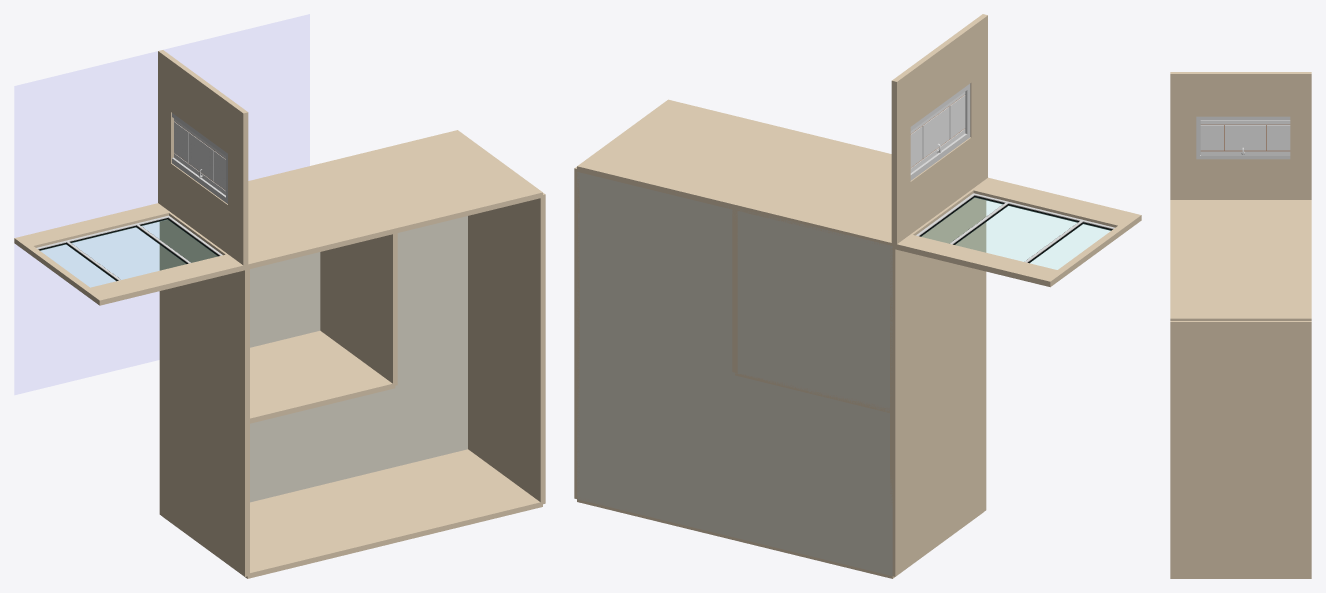
The picture shows the model from 3 angles, left to right: view 1: azimuth 30°, elevation 25°; view 2: azimuth 150°, elevation 25°; view 3: azimuth 270°, elevation 25°; orthographic projection. The views are drawn at different scales.
Visible parts, largest first — view 1: wall (×10), floor (×4), SIP (×2), Glass, WindowFrame, Door_3, DoorFrame, WindowSeal; view 2: floor (×4), wall (×7), SIP (×2), Glass, WindowFrame, DoorFrame, Door_3, WindowSeal; view 3: wall (×4), SIP, Door_3, DoorFrame, Door_4, Door_5, Door_1, Door_2, Door.
Boxes of the visible parts, x1=… form: wall (×10): x1=159, y1=130, x2=545, y2=578; floor (×4): x1=250, y1=216, x2=467, y2=502; SIP (×2): x1=14, y1=50, x2=248, y2=305; Glass: x1=40, y1=219, x2=216, y2=286; WindowFrame: x1=36, y1=215, x2=222, y2=280; Door_3: x1=188, y1=132, x2=213, y2=181; DoorFrame: x1=172, y1=113, x2=227, y2=203; WindowSeal: x1=38, y1=218, x2=219, y2=281; floor (×4): x1=577, y1=172, x2=892, y2=575; wall (×7): x1=574, y1=99, x2=986, y2=576; SIP (×2): x1=891, y1=14, x2=1141, y2=287; Glass: x1=921, y1=197, x2=1110, y2=269; WindowFrame: x1=916, y1=193, x2=1114, y2=262; DoorFrame: x1=910, y1=83, x2=970, y2=180; Door_3: x1=922, y1=106, x2=949, y2=158; WindowSeal: x1=919, y1=195, x2=1112, y2=263; wall (×4): x1=1170, y1=200, x2=1311, y2=577; SIP: x1=1170, y1=72, x2=1311, y2=199; Door_3: x1=1224, y1=125, x2=1265, y2=150; DoorFrame: x1=1196, y1=116, x2=1290, y2=159; Door_4: x1=1266, y1=125, x2=1290, y2=150; Door_5: x1=1200, y1=125, x2=1223, y2=150; Door_1: x1=1200, y1=120, x2=1290, y2=124; Door_2: x1=1200, y1=151, x2=1290, y2=155; Door: x1=1201, y1=124, x2=1289, y2=151.
Size of the model in its own units: 9.05 by 9.05 by 3.
